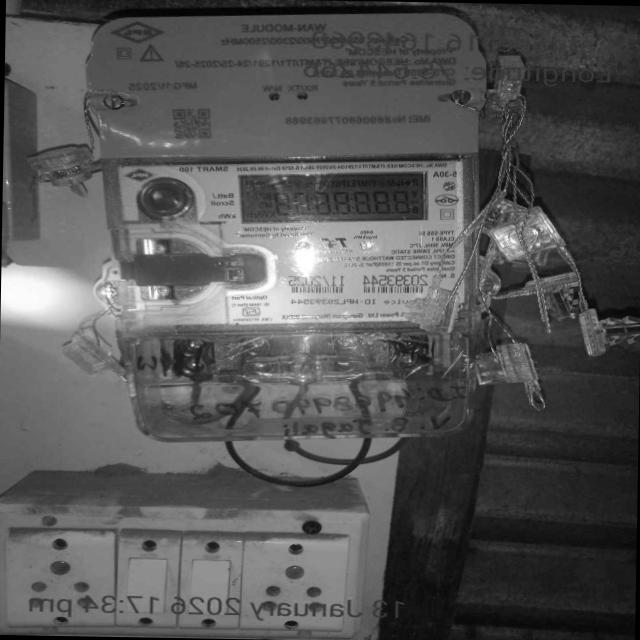meter: (79, 11, 488, 342)
